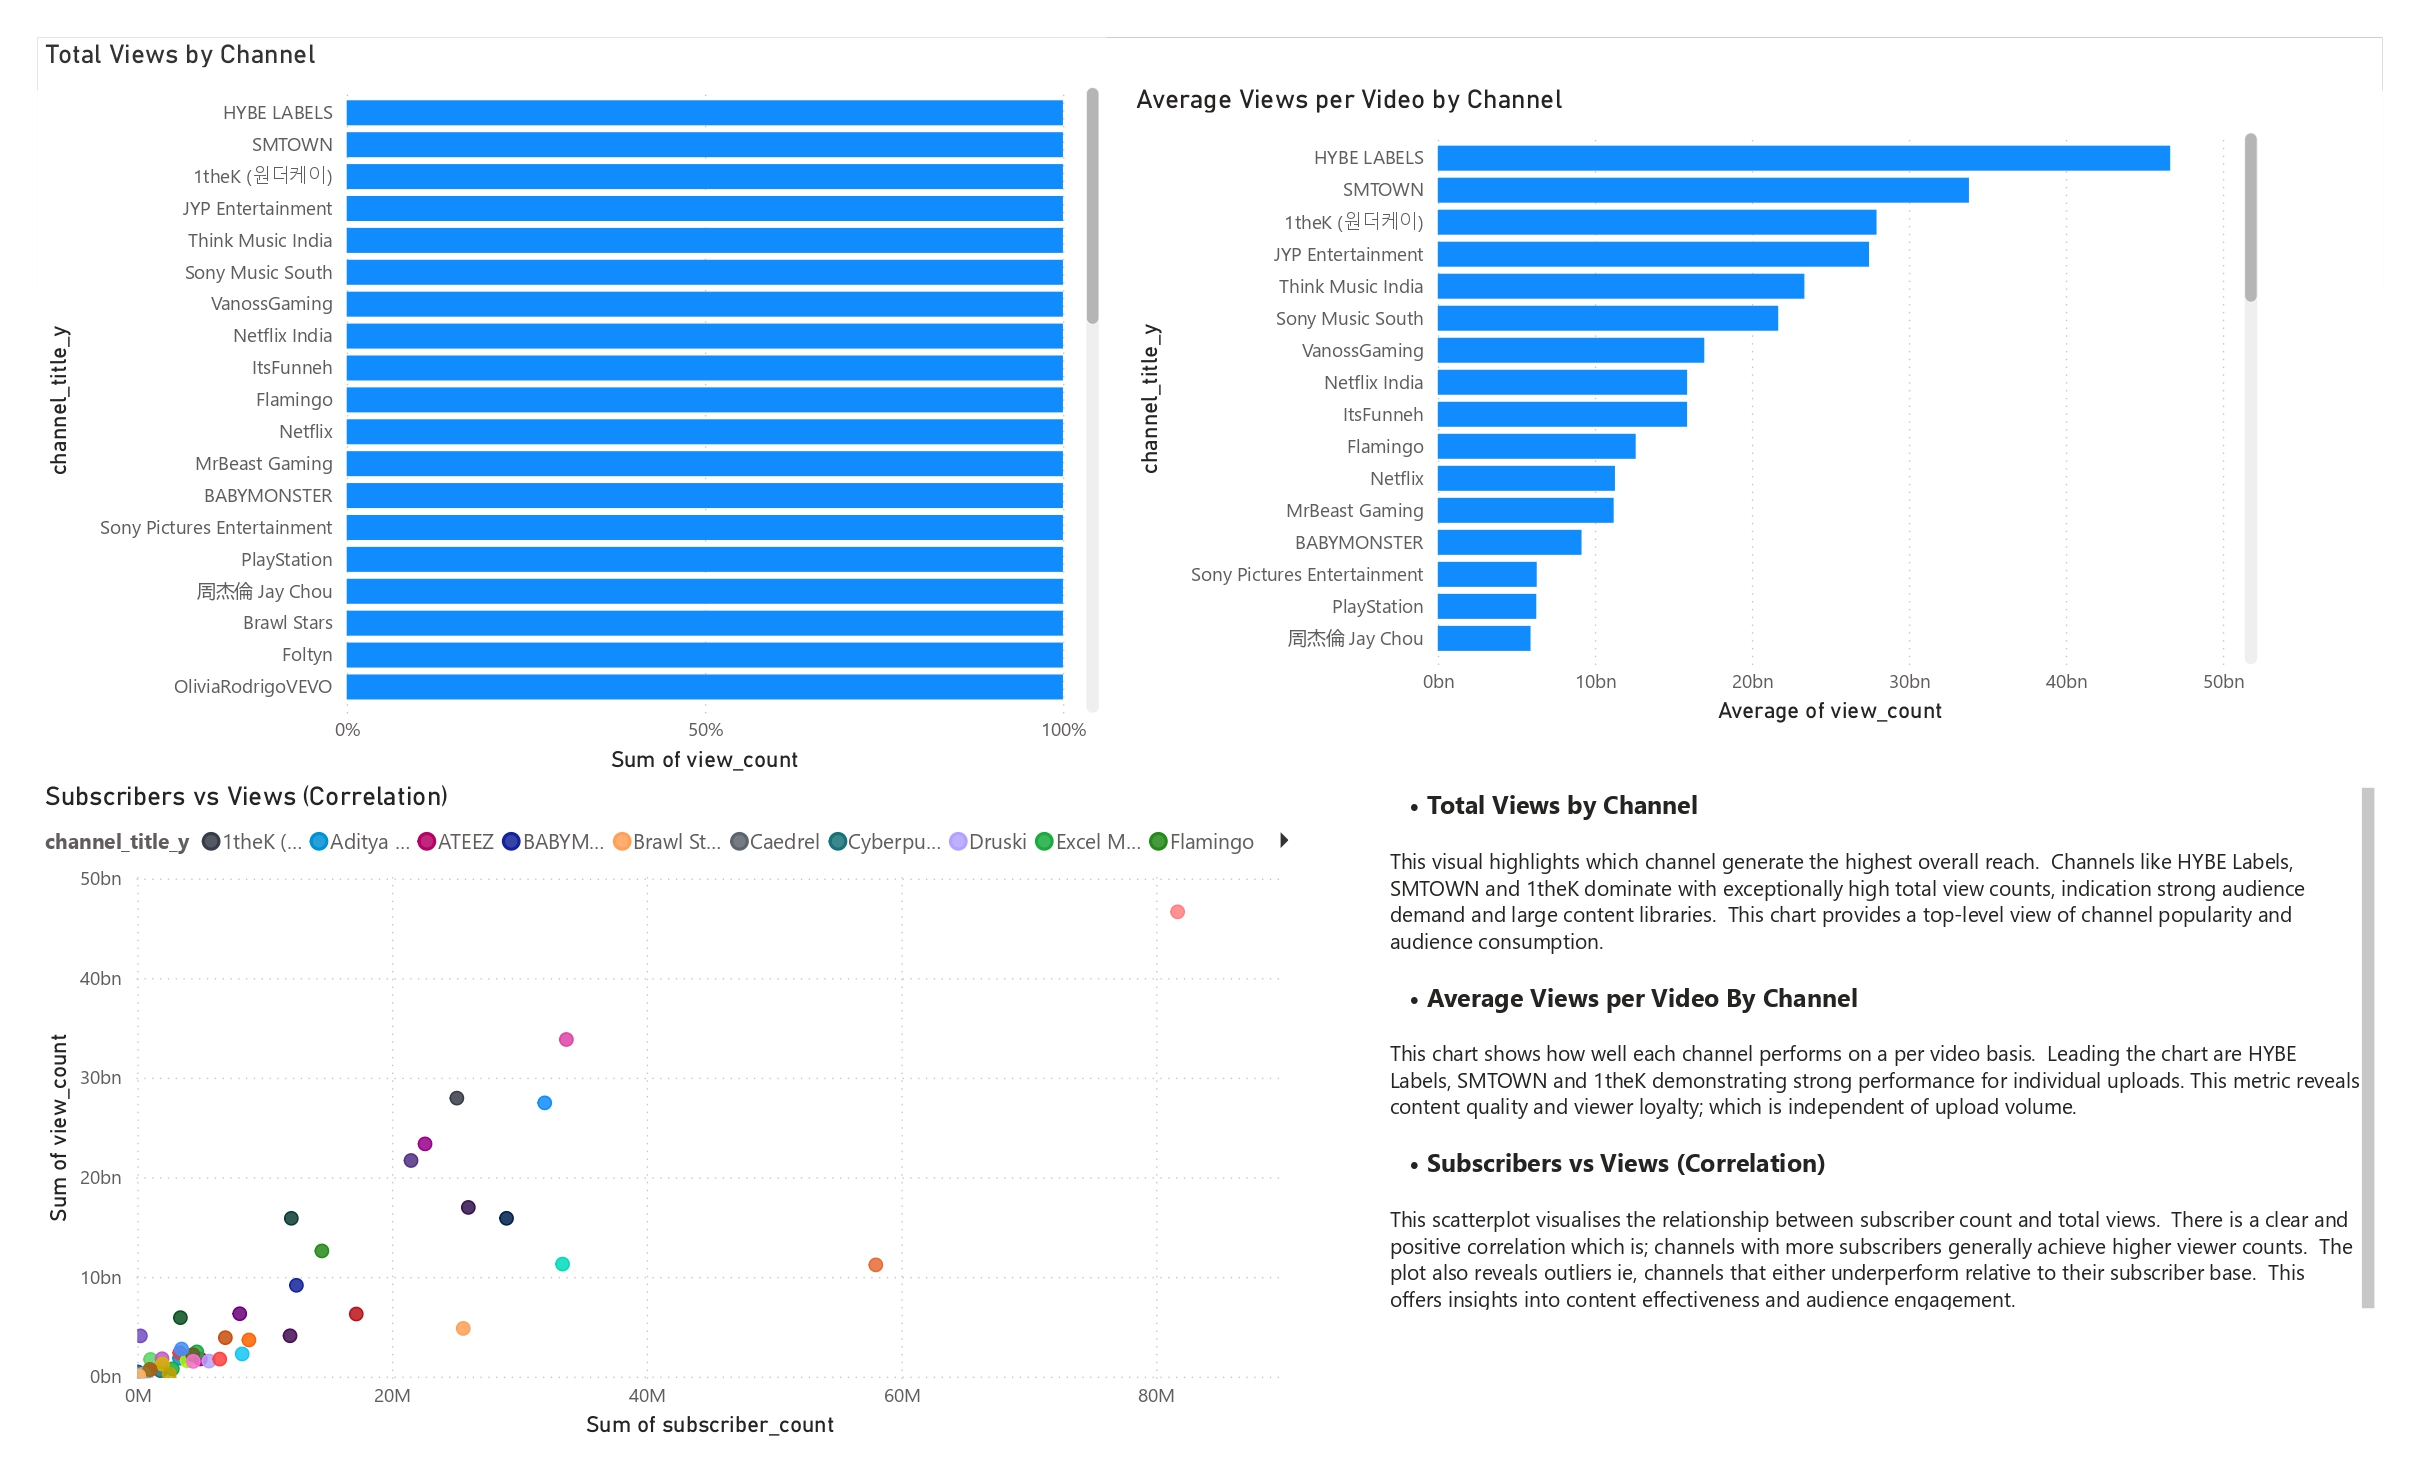

What the dashboard file says about the page in this screenshot:
{"tool":"powerbi","page":{"name":"Channel Performance","canvas":[1500,900],"ordinal":1},"visuals":[{"type":"hundredPercentStackedBarChart","title":"Total Views by Channel","fields":{"Category":["final_analytics.channel_title_y"],"Y":["Sum(final_analytics.view_count)"]},"box":[0,0,683.8,475],"z":0},{"type":"clusteredBarChart","title":"Average Views per Video by Channel","fields":{"Category":["final_analytics.channel_title_y"],"Y":["Avg(final_analytics.view_count)"]},"box":[698.3,28.8,727.1,415.3],"z":1000},{"type":"scatterChart","title":"Subscribers vs Views (Correlation)","fields":{"X":["Sum(final_analytics.subscriber_count)"],"Y":["Sum(final_analytics.view_count)"],"Series":["final_analytics.channel_title_y"]},"box":[0,474.6,813.6,425.4],"z":2000},{"type":"textbox","box":[860.3,475,639.7,344.1],"z":3000}]}

Visuals, with their boxes on the page's 1500x900 design canvas (x1, y1, x2, y2). These are canvas units, not pixel positions in the 2420x1482 screenshot, which may show the page scaled, cropped or inside an application window:
"Total Views by Channel" hundredPercentStackedBarChart: 0/0/684/475
"Average Views per Video by Channel" clusteredBarChart: 698/29/1425/444
"Subscribers vs Views (Correlation)" scatterChart: 0/475/814/900
textbox: 860/475/1500/819
